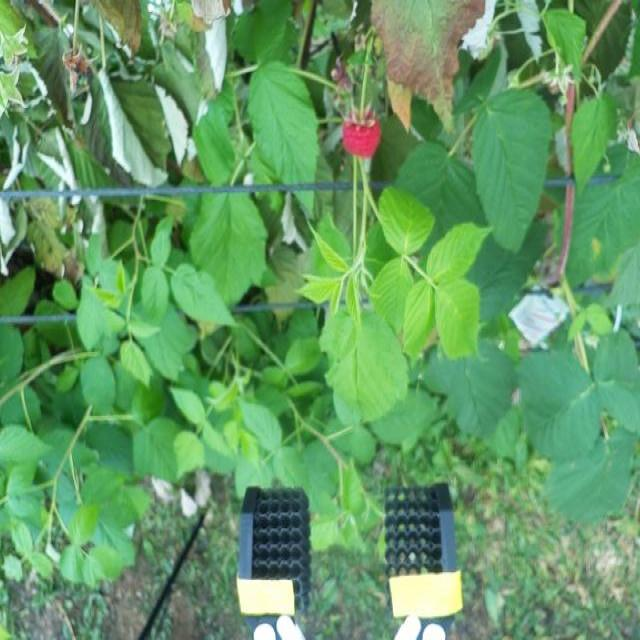Riped berries: (339, 107, 382, 160)
